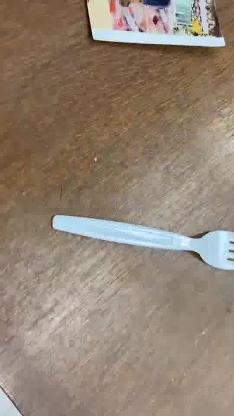Others: (50, 213, 234, 269)
